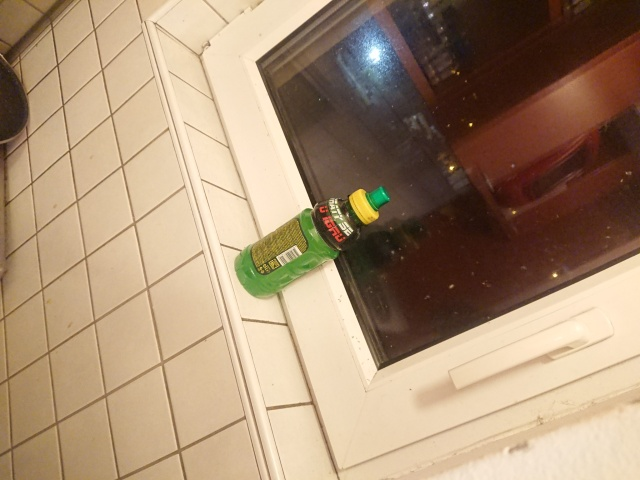Vindi Iso Sport Lemon-Grapefruit 500mL: (231, 183, 393, 302)
